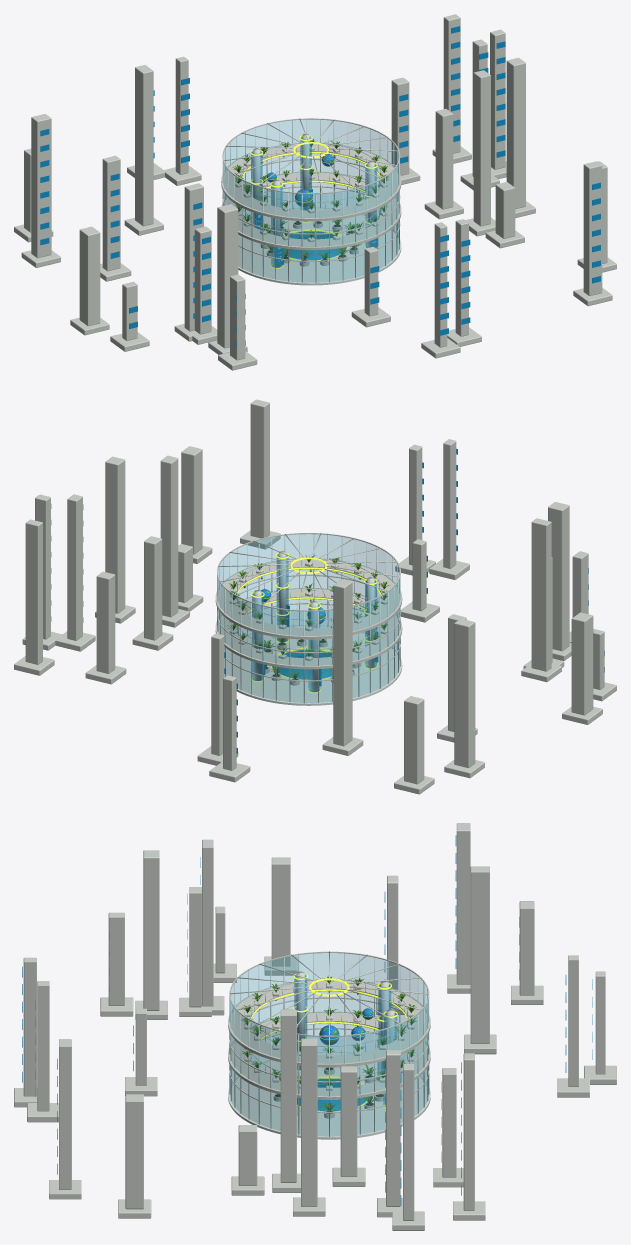
Rendered from atrium.glb.
The picture shows the model from 3 angles, top to bottom: view 1: azimuth 30°, elevation 25°; view 2: azimuth 150°, elevation 25°; view 3: azimuth 270°, elevation 25°; orthographic projection. The views are drawn at different scales.
Visible parts, largest first — view 1: GEO-DREAM-ground_gallery, GEO-DREAM-upper_gallery.001, GEO-DREAM-upper_gallery, GEO-DREAM-distant_tower, GEO-DREAM-distant_tower.010, GEO-DREAM-distant_tower.015, GEO-DREAM-distant_tower.016, GEO-DREAM-distant_tower.012, GEO-DREAM-distant_tower.013, GEO-DREAM-distant_tower.009, GEO-DREAM-distant_tower.003, GEO-DREAM-distant_tower.024 (+35 smaller); view 2: GEO-DREAM-ground_gallery, GEO-DREAM-upper_gallery.001, GEO-DREAM-upper_gallery, GEO-DREAM-distant_tower, GEO-DREAM-distant_tower.016, GEO-DREAM-distant_tower.024, GEO-DREAM-distant_tower.015, GEO-DREAM-distant_tower.010, GEO-DREAM-distant_tower.012, GEO-DREAM-distant_tower.013, GEO-DREAM-distant_tower.019, GEO-DREAM-distant_tower.018 (+32 smaller); view 3: GEO-DREAM-ground_gallery, GEO-DREAM-upper_gallery.001, GEO-DREAM-distant_tower, GEO-DREAM-upper_gallery, GEO-DREAM-distant_tower.015, GEO-DREAM-distant_tower.010, GEO-DREAM-distant_tower.012, GEO-DREAM-distant_tower.016, GEO-DREAM-distant_tower.018, GEO-DREAM-distant_tower.006, GEO-DREAM-distant_tower.009, GEO-DREAM-distant_tower.024 (+37 smaller).
Boxes of the visible parts, left/top/right/bottom form: GEO-DREAM-ground_gallery: left=238, top=207, right=401, bottom=285; GEO-DREAM-upper_gallery.001: left=221, top=143, right=401, bottom=221; GEO-DREAM-upper_gallery: left=221, top=171, right=401, bottom=250; GEO-DREAM-distant_tower: left=135, top=65, right=153, bottom=226; GEO-DREAM-distant_tower.010: left=506, top=57, right=525, bottom=208; GEO-DREAM-distant_tower.015: left=473, top=70, right=490, bottom=226; GEO-DREAM-distant_tower.016: left=31, top=114, right=51, bottom=258; GEO-DREAM-distant_tower.012: left=217, top=204, right=238, bottom=348; GEO-DREAM-distant_tower.013: left=583, top=161, right=602, bottom=295; GEO-DREAM-distant_tower.009: left=79, top=226, right=100, bottom=326; GEO-DREAM-distant_tower.003: left=102, top=155, right=120, bottom=271; GEO-DREAM-distant_tower.024: left=184, top=183, right=203, bottom=331; GEO-DREAM-ground_gallery: left=224, top=625, right=402, bottom=705; GEO-DREAM-upper_gallery.001: left=215, top=558, right=402, bottom=639; GEO-DREAM-upper_gallery: left=215, top=588, right=402, bottom=669; GEO-DREAM-distant_tower: left=333, top=579, right=352, bottom=746; GEO-DREAM-distant_tower.016: left=454, top=618, right=475, bottom=767; GEO-DREAM-distant_tower.024: left=531, top=518, right=551, bottom=671; GEO-DREAM-distant_tower.015: left=160, top=455, right=178, bottom=617; GEO-DREAM-distant_tower.010: left=105, top=456, right=125, bottom=613; GEO-DREAM-distant_tower.012: left=548, top=502, right=569, bottom=651; GEO-DREAM-distant_tower.013: left=250, top=399, right=269, bottom=538; GEO-DREAM-distant_tower.019: left=25, top=519, right=42, bottom=664; GEO-DREAM-distant_tower.018: left=67, top=494, right=82, bottom=640; GEO-DREAM-ground_gallery: left=228, top=1051, right=430, bottom=1139; GEO-DREAM-upper_gallery.001: left=228, top=979, right=430, bottom=1067; GEO-DREAM-distant_tower: left=470, top=866, right=489, bottom=1043; GEO-DREAM-upper_gallery: left=228, top=1011, right=430, bottom=1099; GEO-DREAM-distant_tower.015: left=280, top=1009, right=296, bottom=1182; GEO-DREAM-distant_tower.010: left=301, top=1038, right=317, bottom=1206; GEO-DREAM-distant_tower.012: left=143, top=850, right=159, bottom=1010; GEO-DREAM-distant_tower.016: left=456, top=823, right=470, bottom=984; GEO-DREAM-distant_tower.018: left=386, top=1050, right=400, bottom=1206; GEO-DREAM-distant_tower.006: left=125, top=1094, right=143, bottom=1209; GEO-DREAM-distant_tower.009: left=271, top=857, right=290, bottom=966; GEO-DREAM-distant_tower.024: left=202, top=839, right=213, bottom=1006.
Size of what is drawn, in the model's own units: 65.88 by 20.46 by 62.43.
Materials: 15 (3 with a texture image).
